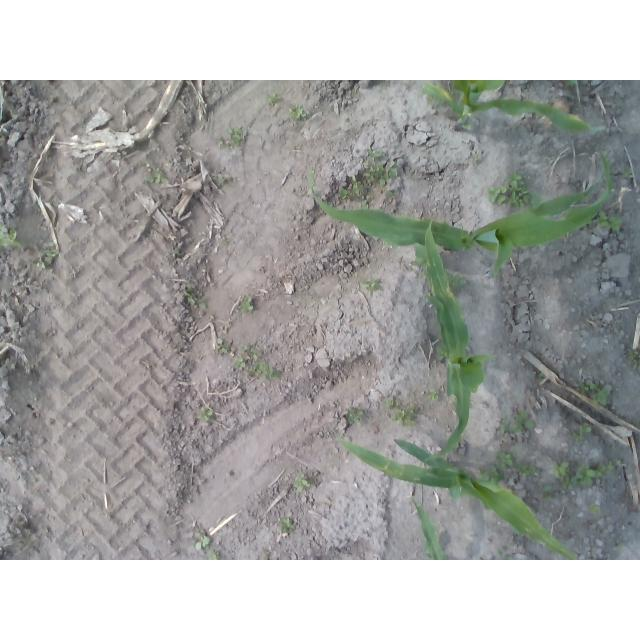Maize: (307, 148, 613, 280), (326, 420, 585, 560), (415, 222, 498, 463), (420, 80, 605, 136), (411, 496, 450, 560)
Weeds: (487, 172, 531, 209), (363, 148, 397, 187), (571, 461, 614, 487), (577, 379, 611, 406), (499, 410, 534, 435), (37, 240, 60, 270), (0, 221, 22, 250), (184, 283, 208, 309), (217, 127, 244, 150), (477, 463, 504, 486), (337, 177, 365, 198), (553, 459, 572, 489), (251, 362, 281, 381), (597, 210, 623, 231), (392, 408, 420, 427), (144, 163, 168, 185), (359, 276, 381, 296), (444, 271, 466, 291), (572, 422, 593, 440), (493, 451, 515, 468), (191, 531, 210, 550), (347, 407, 365, 426), (293, 473, 311, 492), (287, 104, 308, 120), (515, 462, 537, 477), (278, 516, 296, 534), (195, 407, 214, 422), (237, 296, 254, 312), (435, 346, 449, 361), (497, 548, 513, 561), (531, 191, 545, 205), (385, 396, 400, 409), (542, 484, 554, 500), (217, 337, 229, 353), (427, 96, 444, 107), (266, 93, 282, 104), (426, 388, 439, 401), (588, 504, 601, 515), (627, 348, 640, 359), (234, 357, 247, 367), (622, 167, 634, 177), (249, 349, 260, 359), (410, 260, 422, 269), (207, 552, 219, 561), (384, 190, 396, 197), (472, 155, 479, 166), (362, 200, 370, 209), (564, 80, 576, 86), (538, 372, 547, 380), (239, 343, 249, 350), (633, 359, 640, 369), (218, 177, 226, 184), (173, 250, 181, 257), (617, 459, 624, 466)
